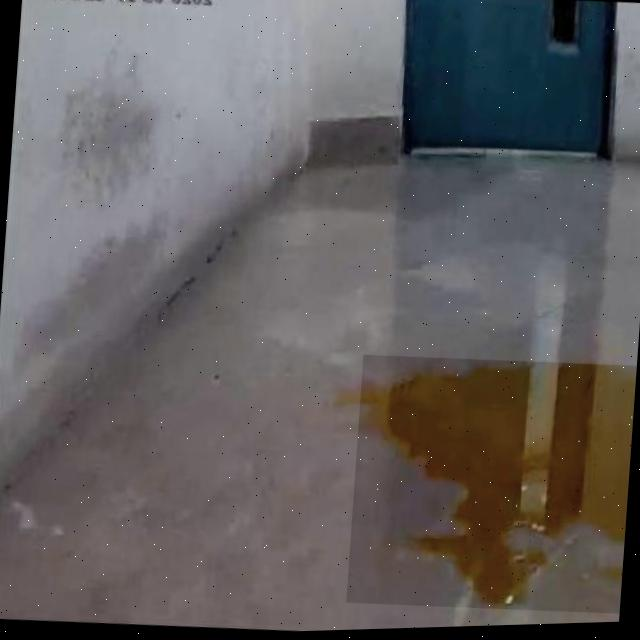spillage: (360, 368, 636, 611)
